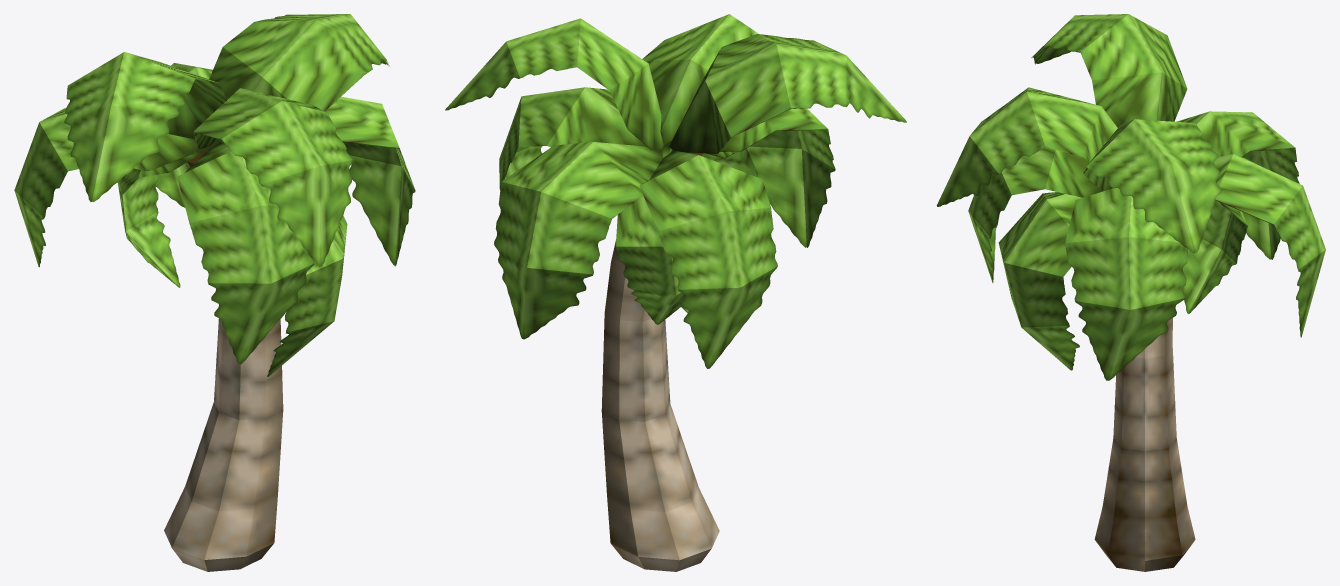
File: Poly_Coconut_Tree_01_A.obj
The picture shows the model from 3 angles, left to right: view 1: azimuth 30°, elevation 25°; view 2: azimuth 150°, elevation 25°; view 3: azimuth 270°, elevation 25°; orthographic projection. The views are drawn at different scales.
Parts seen in each view (by area): view 1: Plane.002, Cube; view 2: Plane.002, Cube; view 3: Plane.002, Cube.
Part boxes in pixels (box(x1,y1,x2,y2)): Plane.002: box(14, 14, 415, 376); Cube: box(164, 149, 283, 571); Plane.002: box(445, 14, 906, 368); Cube: box(601, 152, 719, 571); Plane.002: box(936, 14, 1325, 380); Cube: box(1094, 318, 1195, 571).
Size of the model in its own units: 2.43 by 3.29 by 2.32.
Materials: 1 (1 with a texture image).
